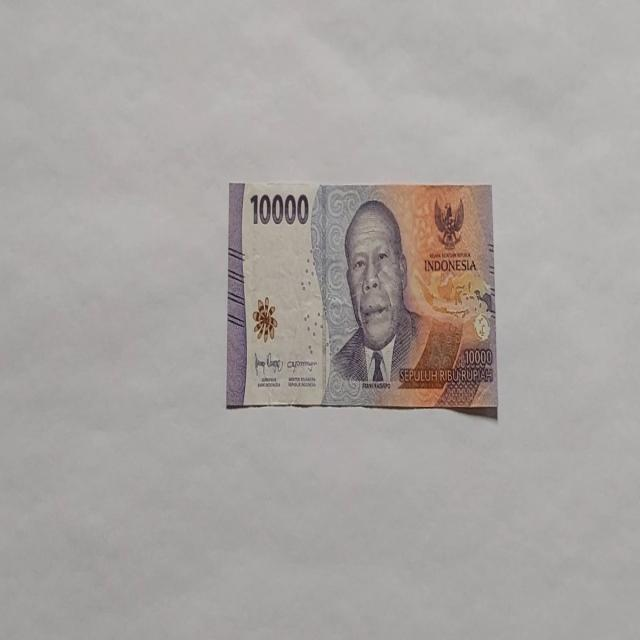sepuluh ribu rupiah: (226, 180, 498, 412), (326, 197, 422, 391)
